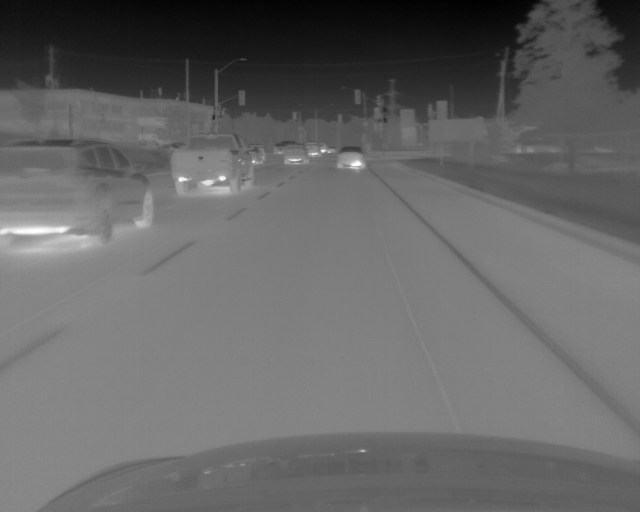car: (1, 140, 154, 247), (171, 134, 256, 195), (336, 146, 368, 170), (284, 144, 309, 164), (247, 146, 263, 165), (305, 141, 320, 156), (273, 142, 284, 154), (318, 141, 328, 153)
